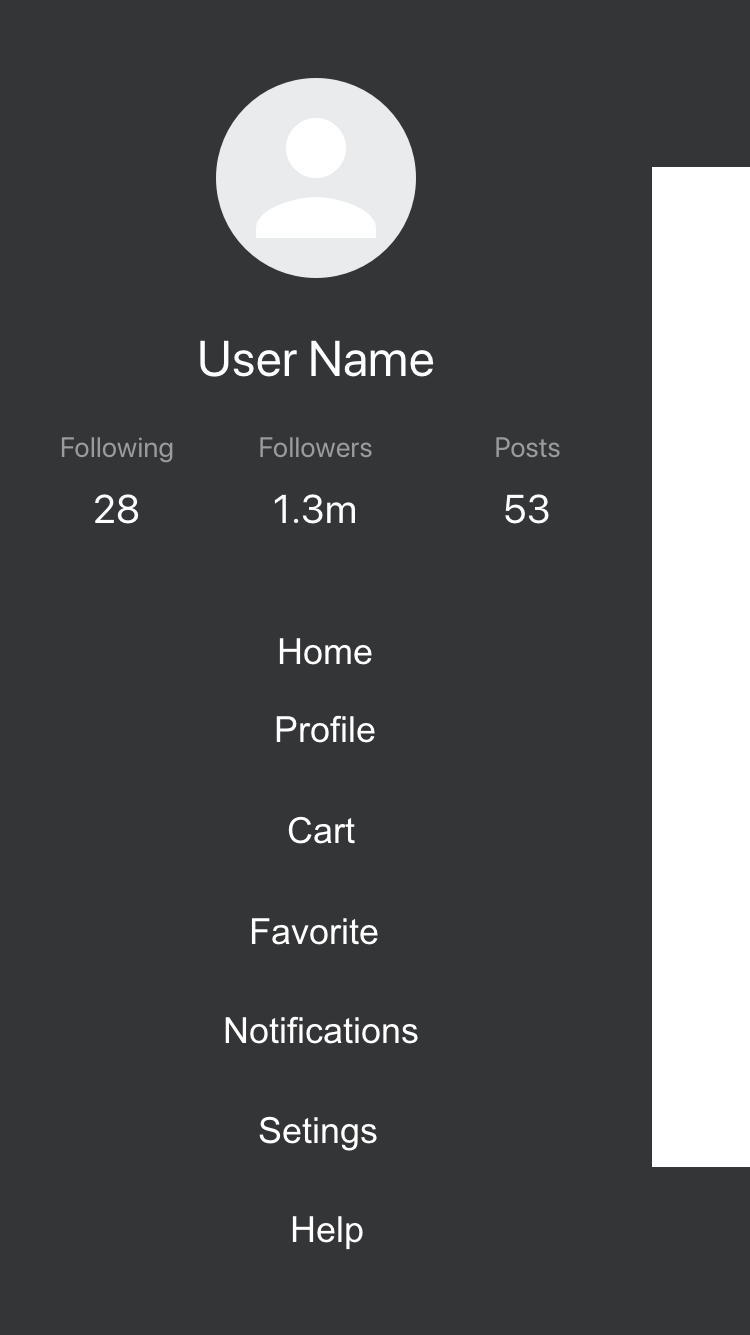Drawer: (2, 1, 654, 1335)
Icon: (214, 76, 417, 281)
Text: (197, 336, 435, 380), (224, 1015, 419, 1045), (259, 1115, 378, 1152), (251, 916, 379, 946), (275, 714, 376, 745), (60, 435, 171, 463), (257, 434, 372, 459), (273, 492, 357, 526), (279, 638, 374, 667), (292, 1216, 364, 1250), (288, 816, 356, 846), (491, 435, 562, 460), (504, 493, 550, 527), (93, 494, 140, 525)
